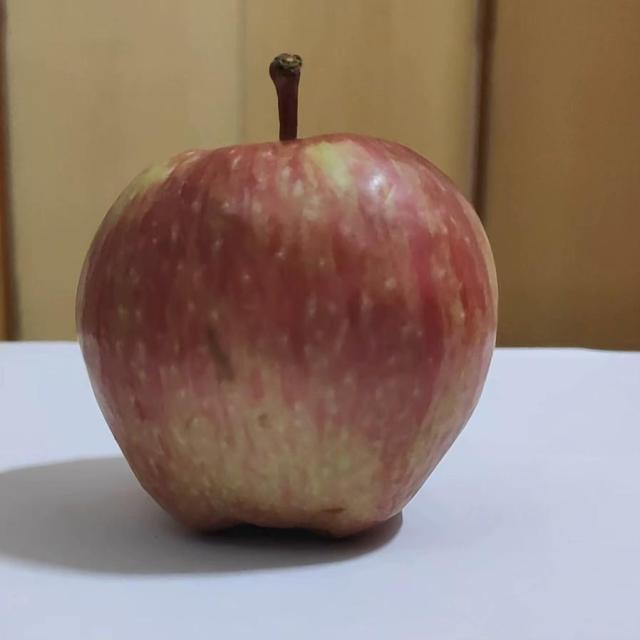Apple: (77, 53, 495, 535)
